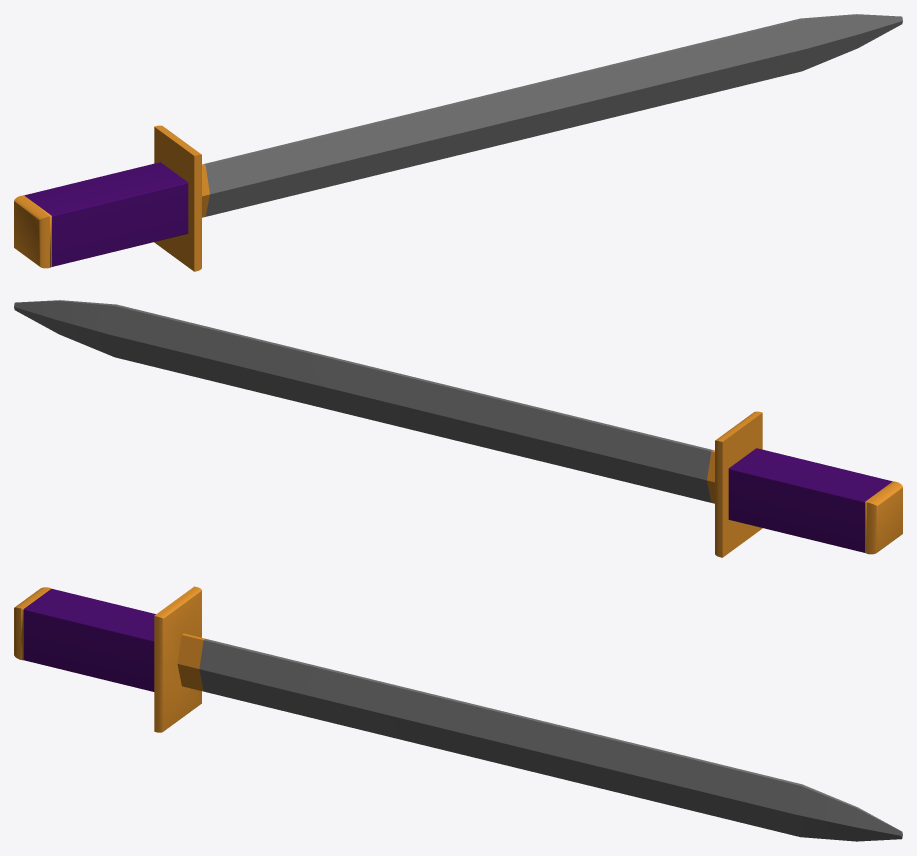
The model's file is LOWPOLYKILIC.fbx.
3 renders of one model, top to bottom at view 1: azimuth 30°, elevation 25°; view 2: azimuth 150°, elevation 25°; view 3: azimuth 330°, elevation 25°, orthographic.
Parts seen in each view (by area): view 1: KILIC; view 2: KILIC; view 3: KILIC.
Boxes of the visible parts, bbox=[...] form: KILIC: bbox=[14, 14, 902, 271]; KILIC: bbox=[14, 300, 902, 557]; KILIC: bbox=[14, 586, 902, 841].
Bounding box in the file's own units: 890 × 112 × 70.79.
